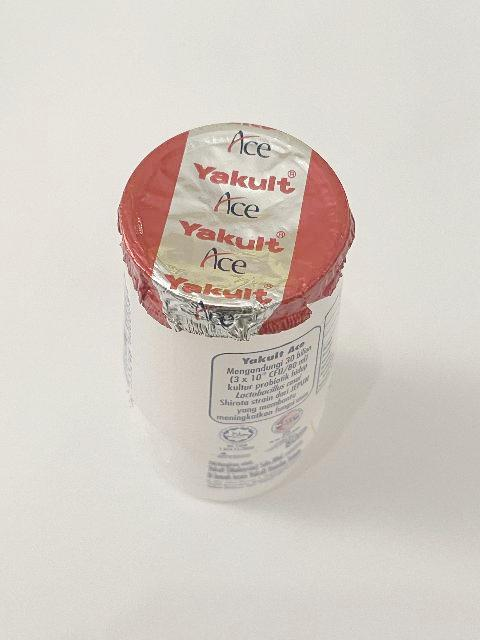plasticbottle: (118, 120, 356, 506)
